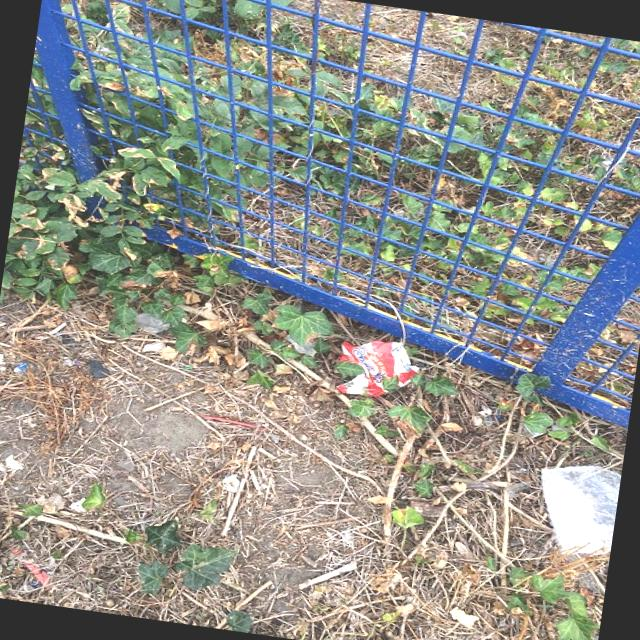Recycle: (531, 454, 623, 564)
Trash: (328, 330, 427, 408)
